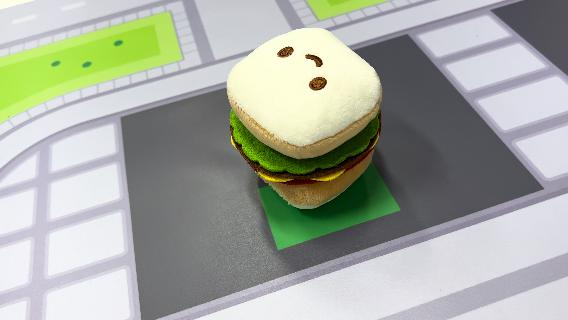sandwich: (224, 26, 386, 210)
